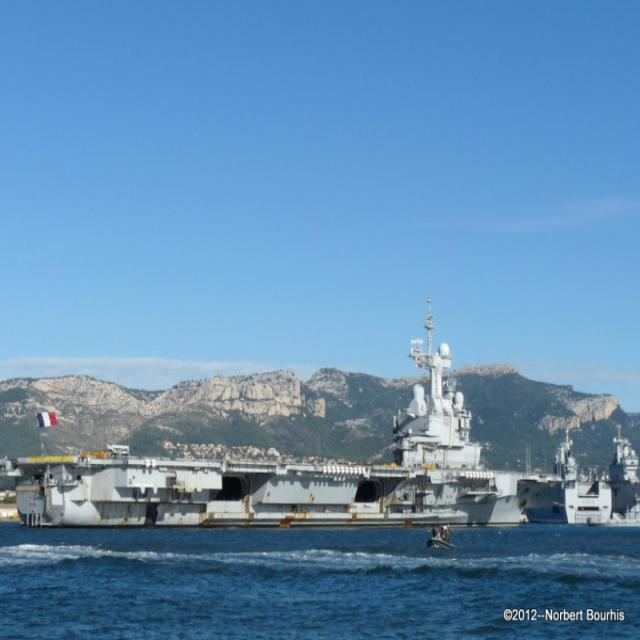Portanaves: (7, 293, 587, 536)
